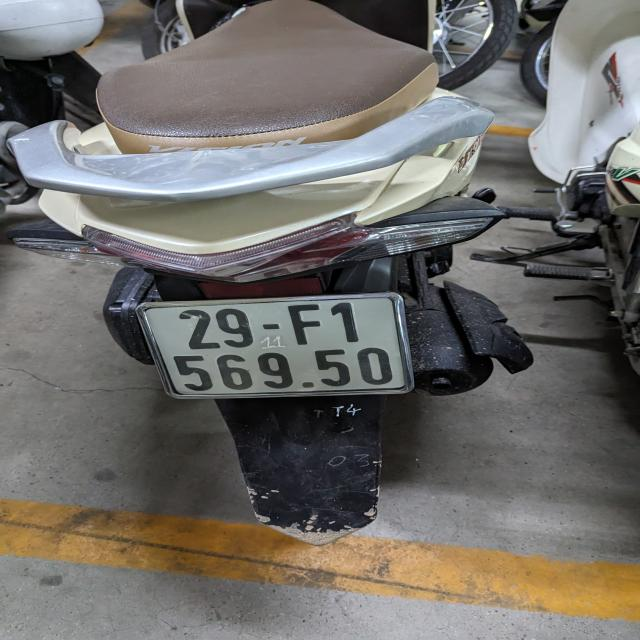License: (134, 291, 414, 400)
